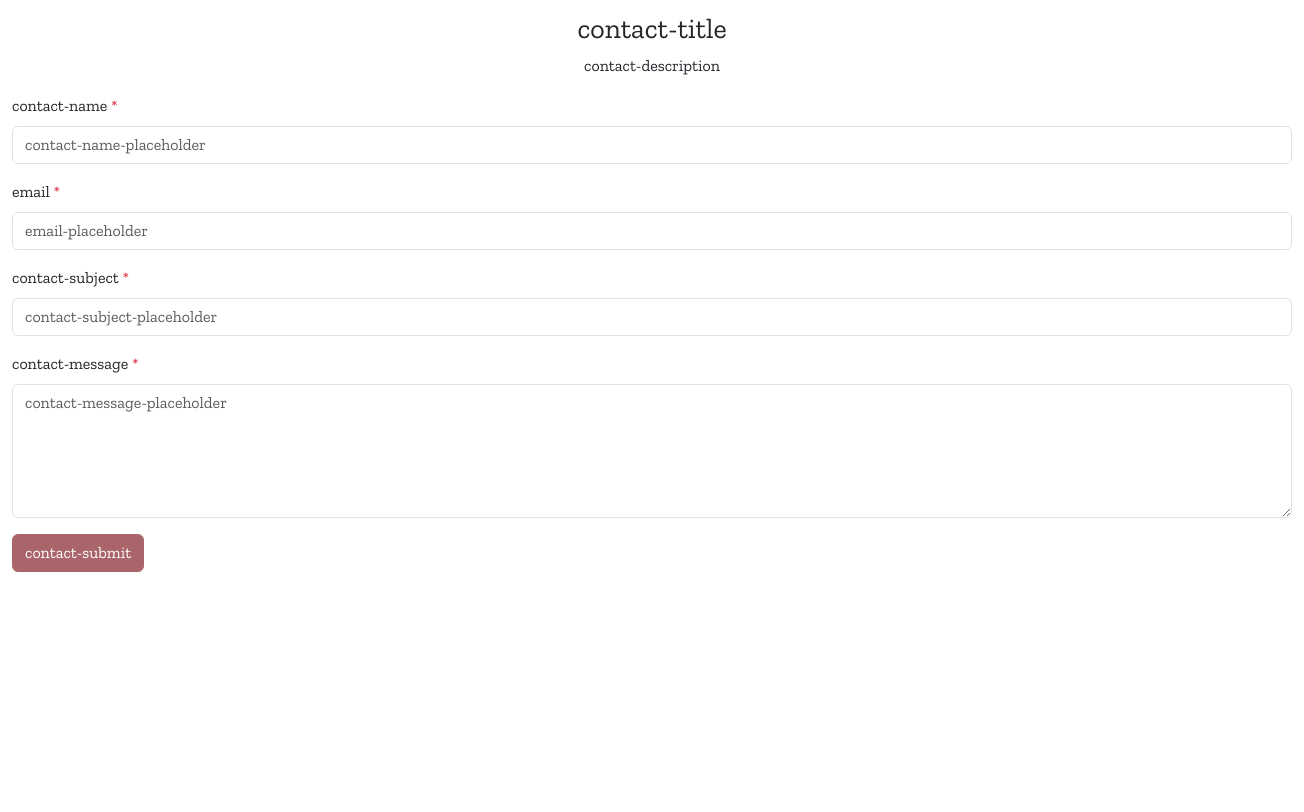
Test: ContactForm › submits the form when the form is valid but receives an error
Note: Fill the form
Step 1. Type "John Doe" into the field labelled "contact-name *" → [652, 145], box [12,126,1292,164]
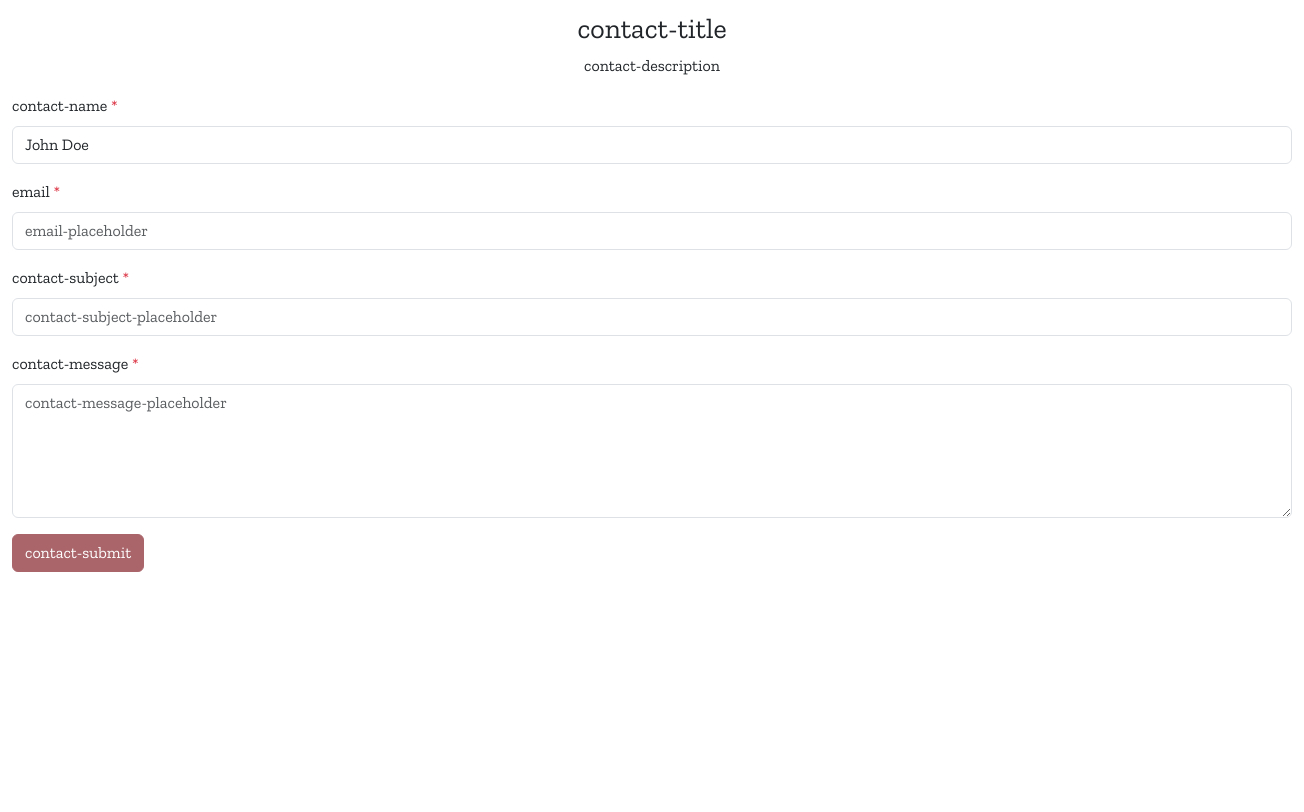
Step 2. Type "text@example.com" into the field labelled "email *" → [652, 231], box [12,212,1292,250]
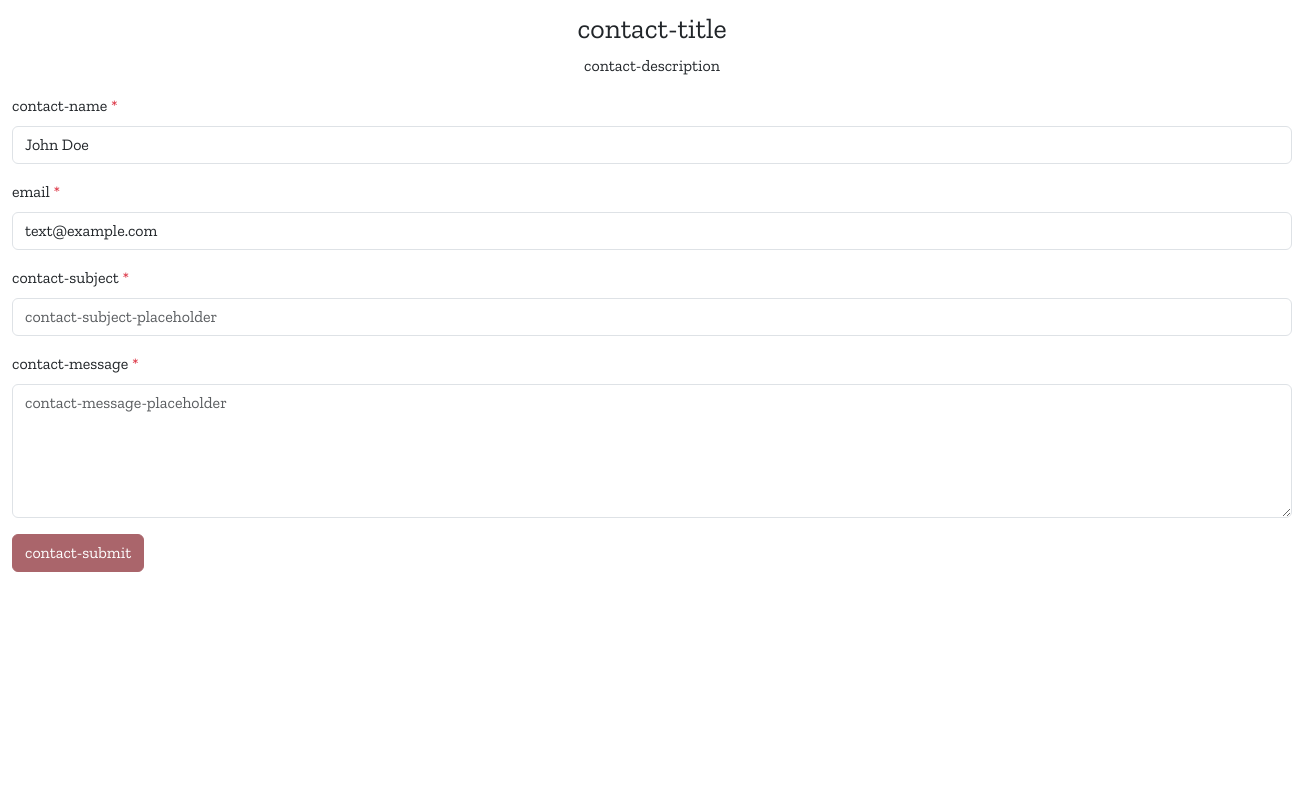
Step 3. Type "Test Subject" into the field labelled "contact-subject *" → [652, 317], box [12,298,1292,336]
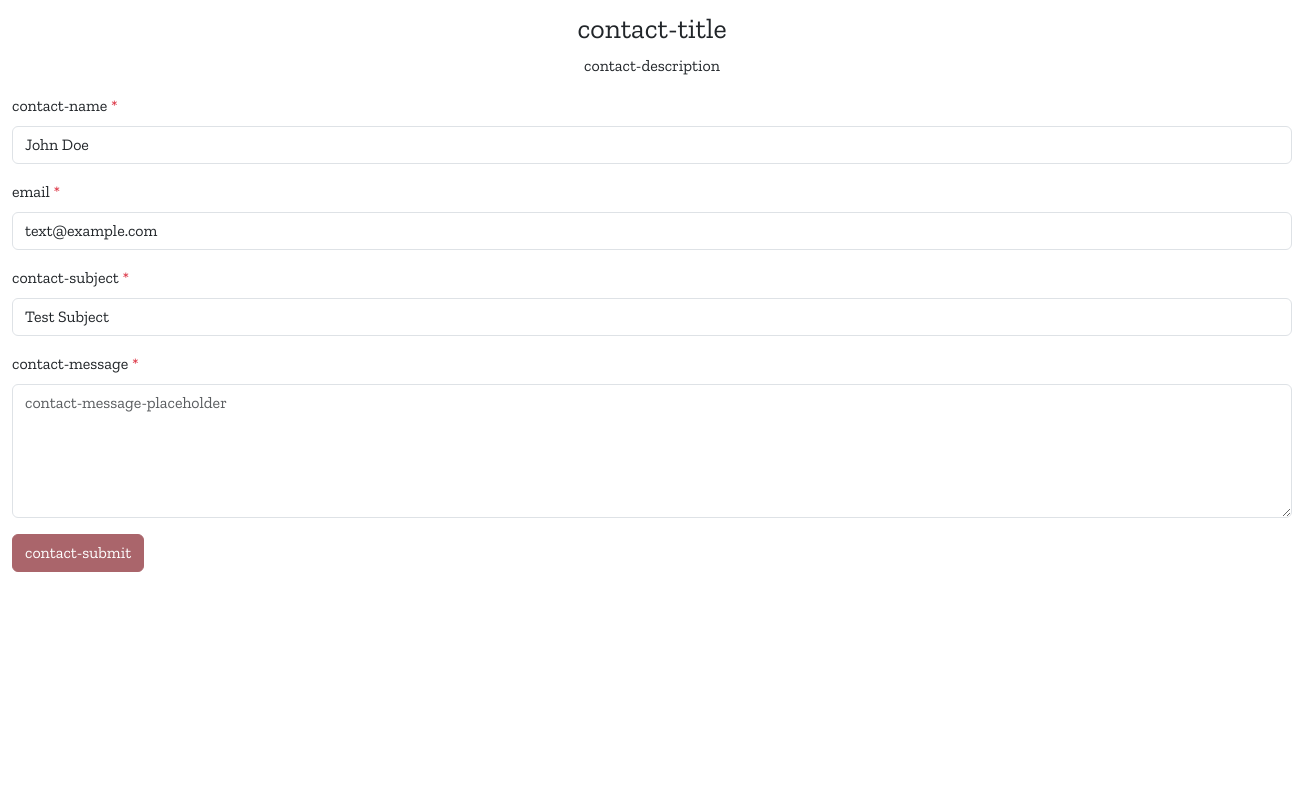
Step 4. Type "Test Message" into the text box labelled "contact-message *" → [652, 451], box [12,384,1292,518]
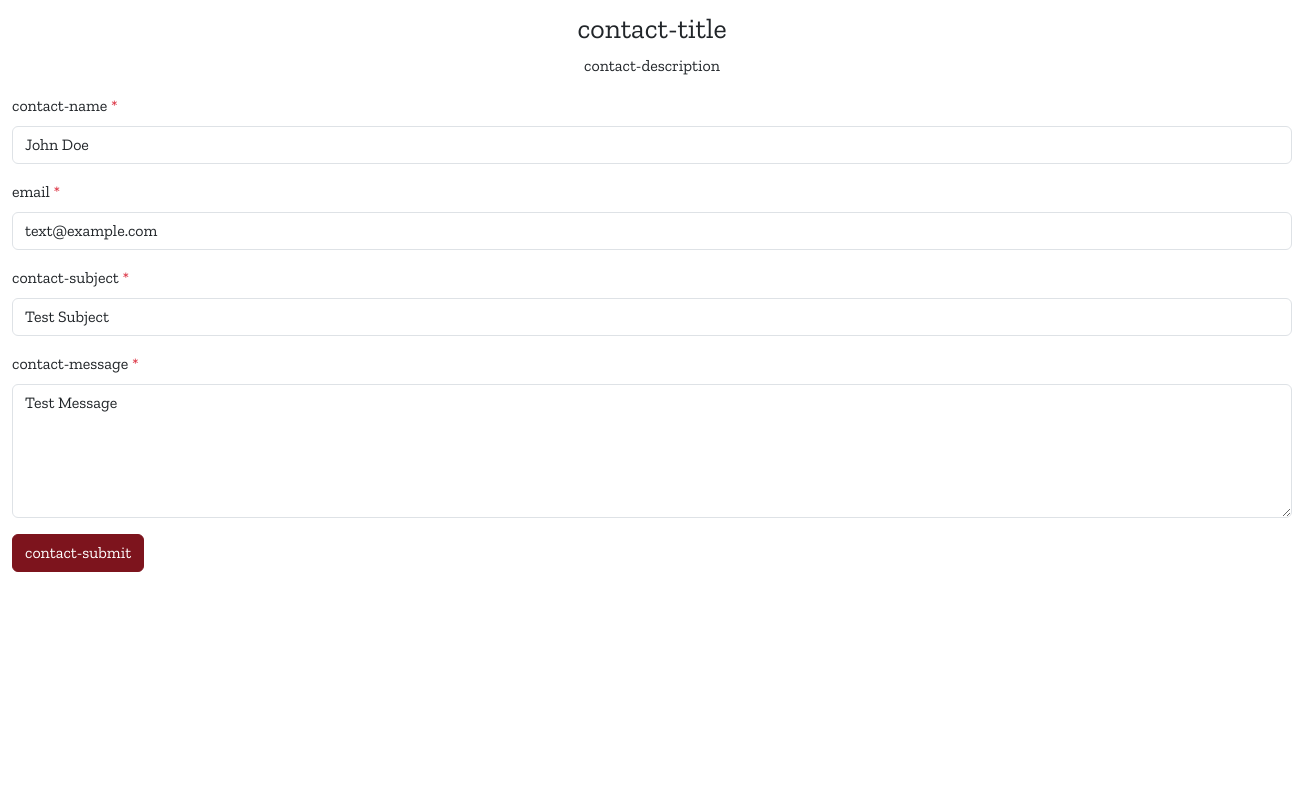
Step 5. Submit the form from the button, box [12,534,144,572]
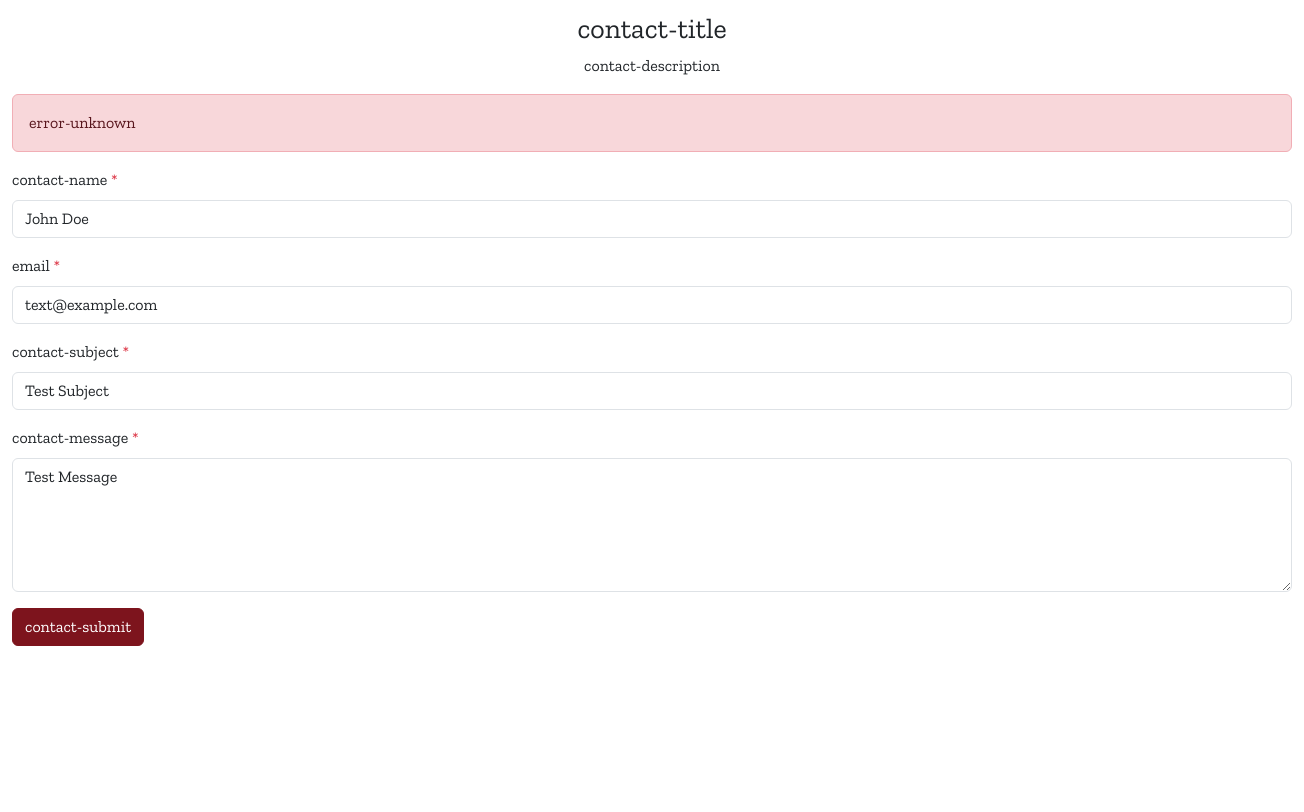
Check: the text "error-unknown" is shown, box [12,94,1292,152]
